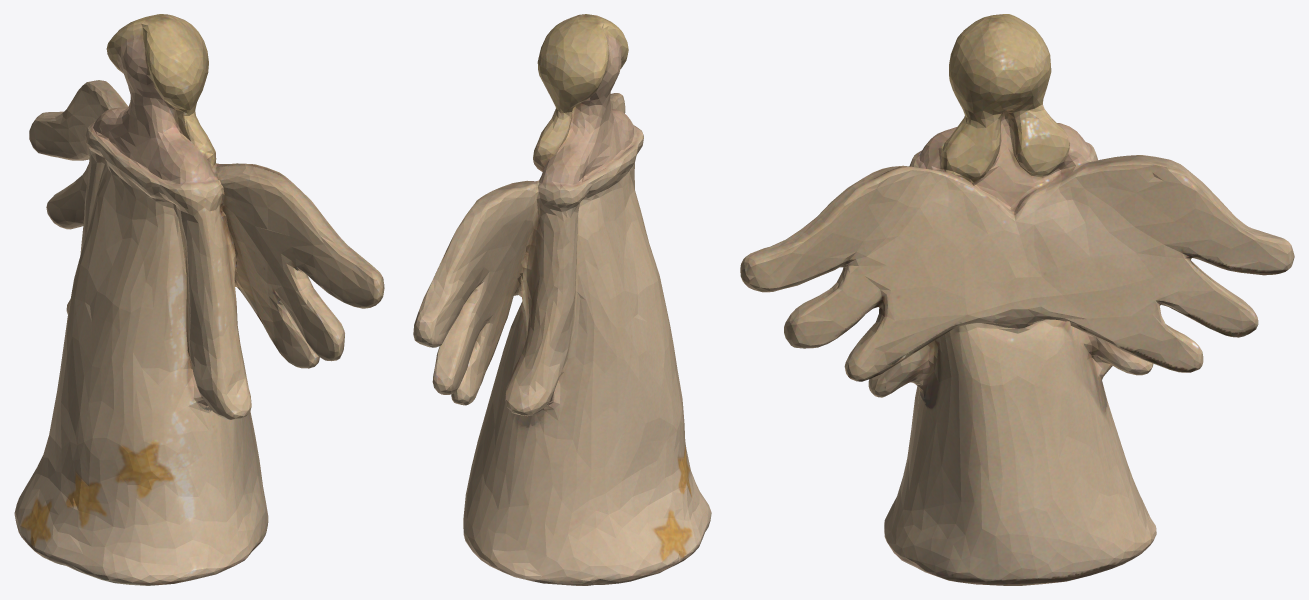
Rendered from A4590F64-2069-A649-B305-ECC4D433FB87_2k.glb.
3 views of the same model, side by side, from view 1: azimuth 30°, elevation 25°; view 2: azimuth 150°, elevation 25°; view 3: azimuth 270°, elevation 25° (orthographic). The views are drawn at different scales.
Visible parts, largest first — view 1: Engel_8k_2k; view 2: Engel_8k_2k; view 3: Engel_8k_2k.
Part boxes in pixels (left/top/right/bottom): Engel_8k_2k: left=14, top=14, right=384, bottom=585; Engel_8k_2k: left=413, top=14, right=711, bottom=585; Engel_8k_2k: left=740, top=14, right=1294, bottom=585.
Bounding box in the file's own units: 0.0828 × 0.1911 × 0.1825.
Materials: 1 (1 with a texture image).
